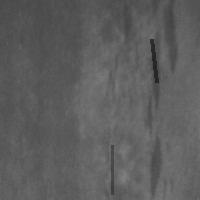inclusion: (144, 1, 182, 180), (145, 133, 171, 199), (115, 2, 139, 53), (149, 37, 158, 84), (110, 143, 114, 196)
